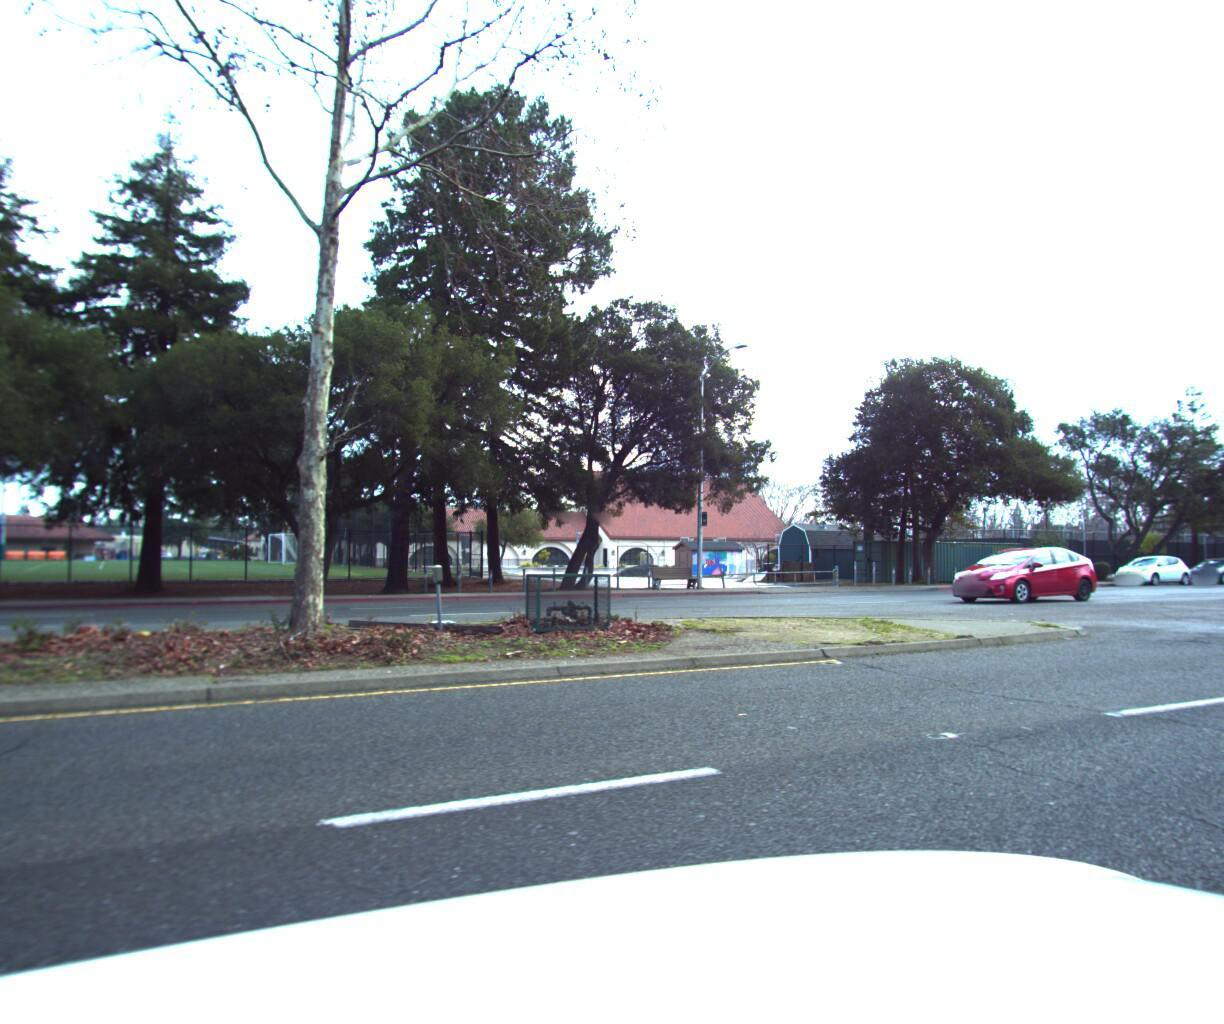car: (939, 538, 1099, 599), (1102, 546, 1190, 582), (1173, 548, 1224, 580)
